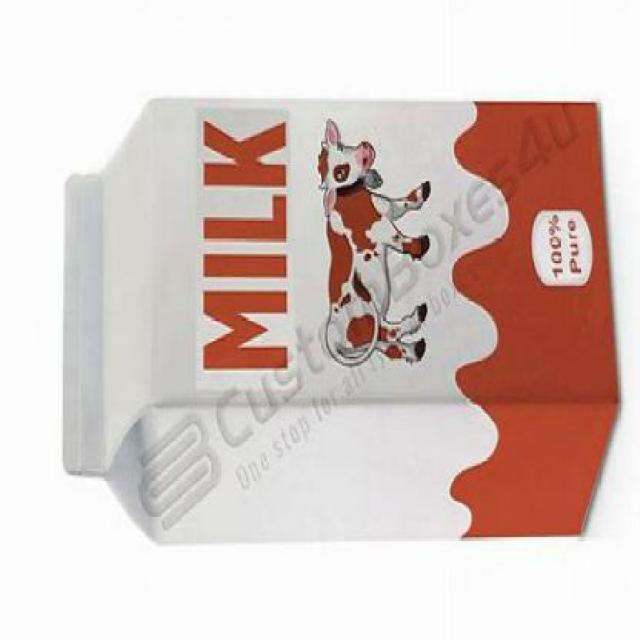non_white_jug: (57, 91, 625, 550)
